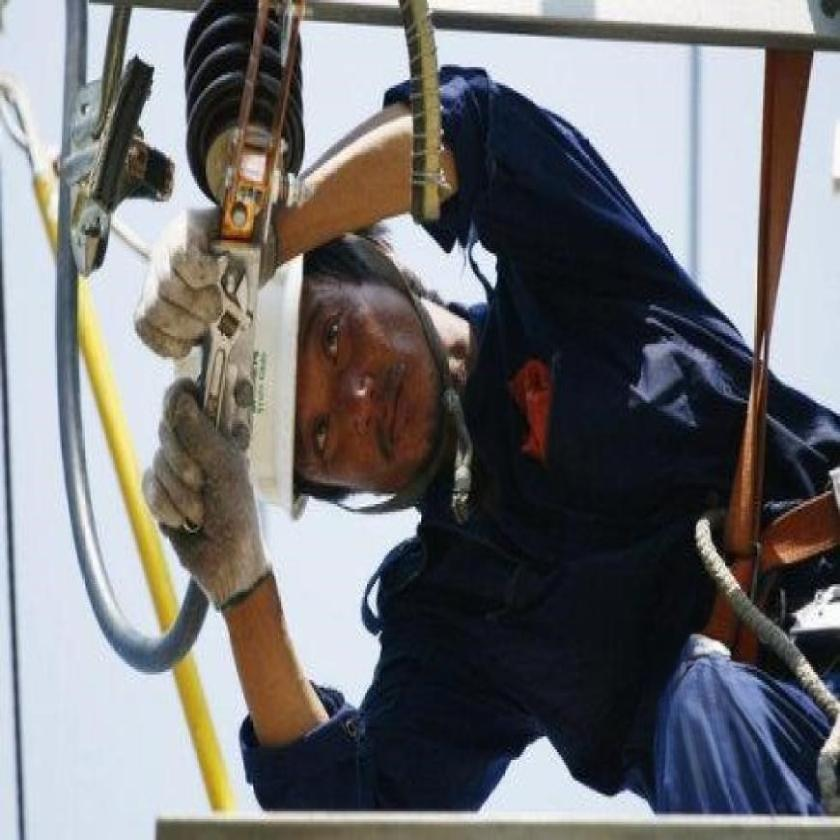Con_casco: (188, 215, 478, 531)
